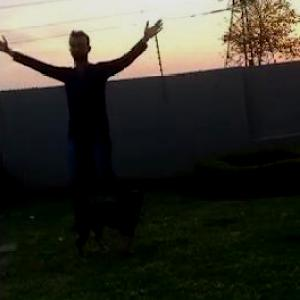takeoff: (1, 17, 157, 215)
